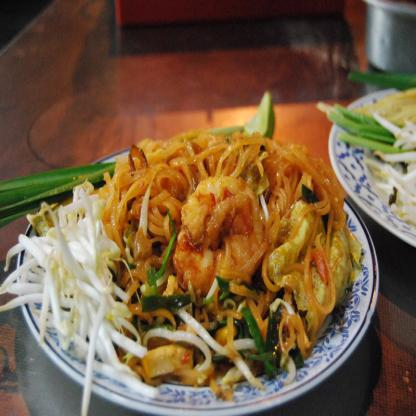Pad Thai: (8, 117, 357, 387)
